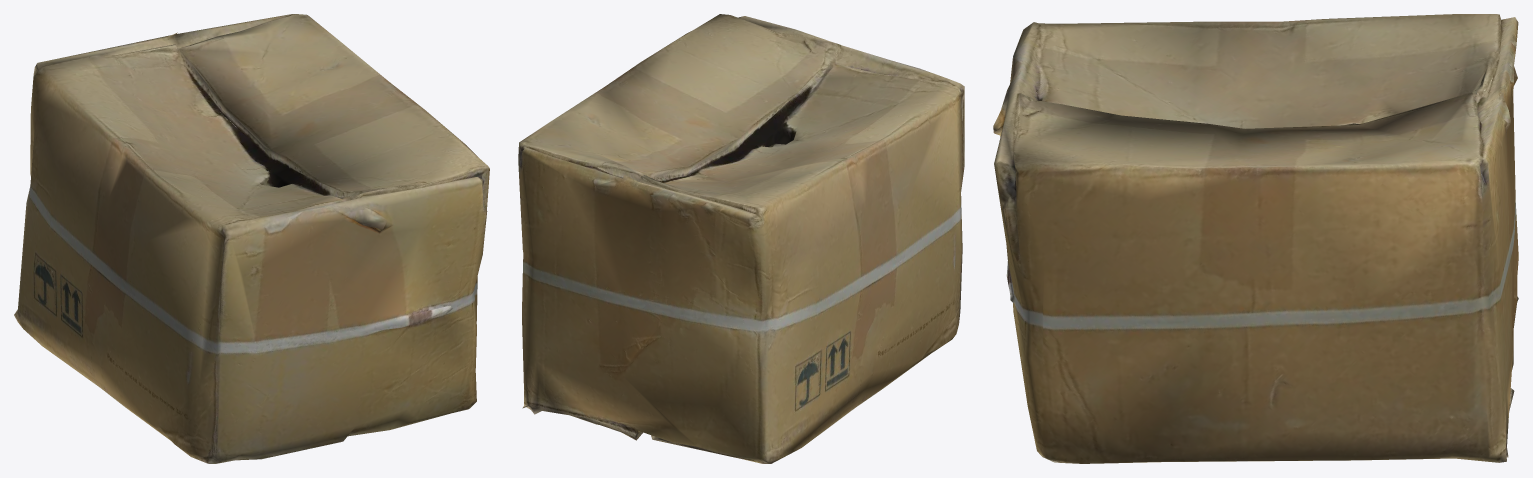
The model's file is cardboard_box_01.glb.
3 views of the same model, side by side, from view 1: azimuth 30°, elevation 25°; view 2: azimuth 150°, elevation 25°; view 3: azimuth 270°, elevation 25° (orthographic). The views are drawn at different scales.
Parts seen in each view (by area): view 1: cardboard_box_01; view 2: cardboard_box_01; view 3: cardboard_box_01.
Part boxes in pixels (x1,y1,x2,y2): cardboard_box_01: (14, 14, 489, 463); cardboard_box_01: (518, 14, 964, 463); cardboard_box_01: (993, 14, 1518, 463).
Bounding box in the file's own units: 0.3855 × 0.3407 × 0.5159.
1 material, 1 textured.
